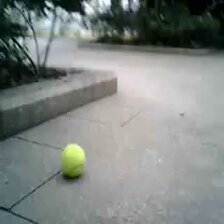tennis: (59, 144, 85, 177)
